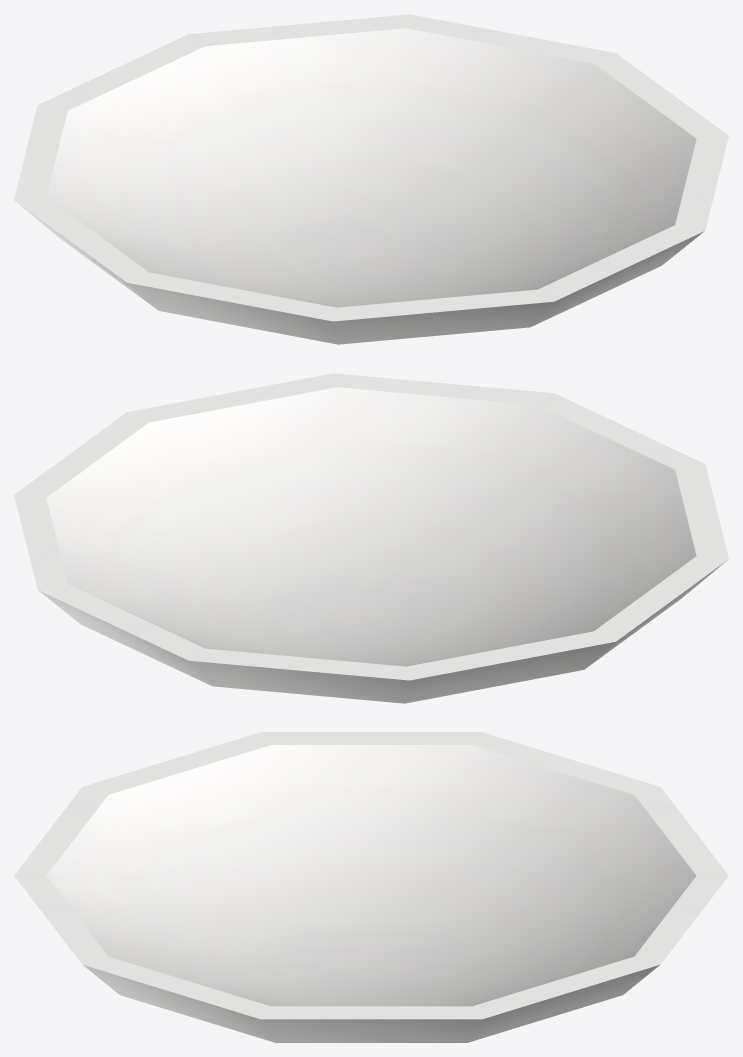
Rendered from FruitBowl.fbx.
3 views of the same model, one above another, from view 1: azimuth 30°, elevation 25°; view 2: azimuth 150°, elevation 25°; view 3: azimuth 270°, elevation 25° (orthographic). The views are drawn at different scales.
Visible parts, largest first — view 1: FruitBowl; view 2: FruitBowl; view 3: FruitBowl.
Boxes of the visible parts, left/top/right/bottom form: FruitBowl: left=14, top=14, right=728, bottom=344; FruitBowl: left=14, top=373, right=728, bottom=703; FruitBowl: left=14, top=732, right=728, bottom=1042.
Bounding box in the file's own units: 43.33 × 7.43 × 45.56.
